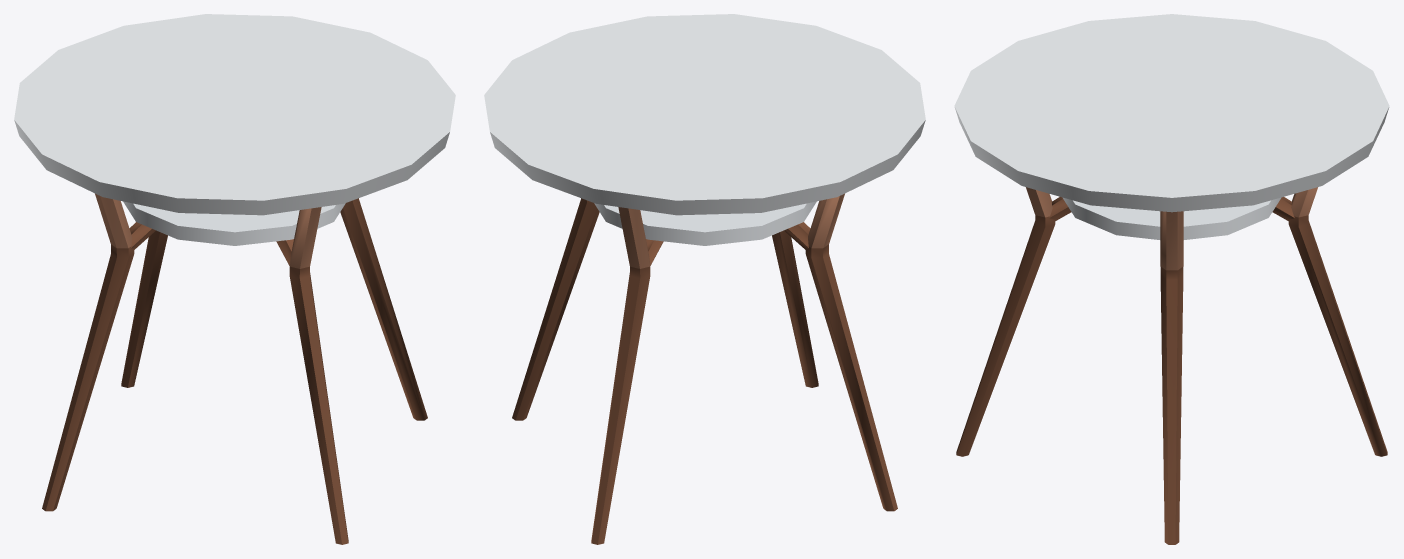
Rendered from mesa_redonda_alta_cassino_pacote.glb.
3 renders of one model, left to right at view 1: azimuth 30°, elevation 25°; view 2: azimuth 150°, elevation 25°; view 3: azimuth 270°, elevation 25°, orthographic. The views are drawn at different scales.
Parts seen in each view (by area): view 1: mesa_redonda_alta_cassino_pacote; view 2: mesa_redonda_alta_cassino_pacote; view 3: mesa_redonda_alta_cassino_pacote.
Boxes of the visible parts, left/top/right/bottom form: mesa_redonda_alta_cassino_pacote: left=14, top=14, right=455, bottom=544; mesa_redonda_alta_cassino_pacote: left=484, top=14, right=925, bottom=544; mesa_redonda_alta_cassino_pacote: left=954, top=14, right=1389, bottom=544.
Size of the model in its own units: 0.9665 by 0.8522 by 0.9665.
1 material, 1 textured.
